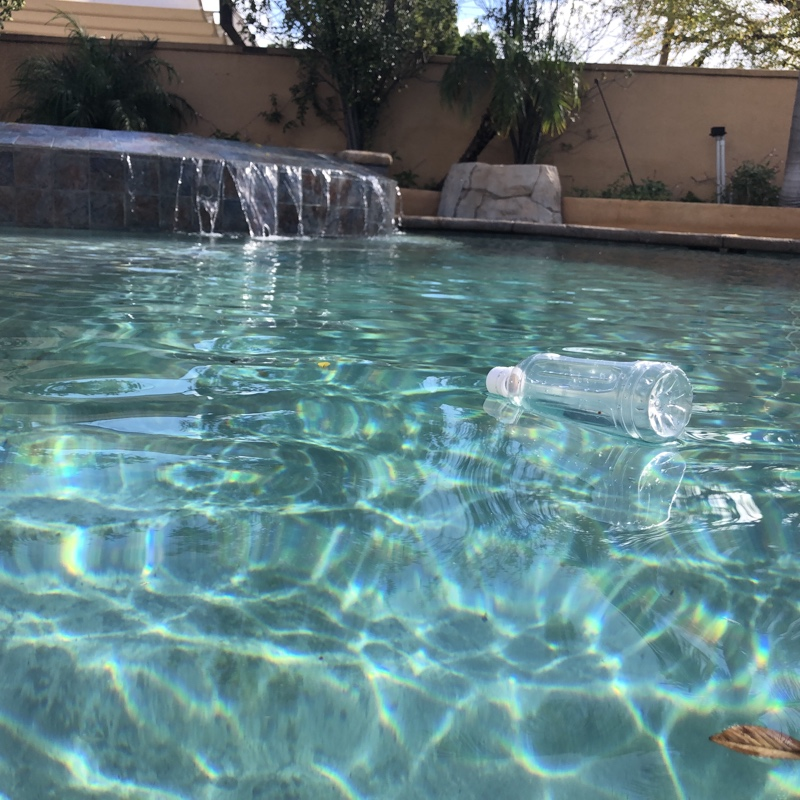Plastic Bottle: (481, 347, 698, 451)
